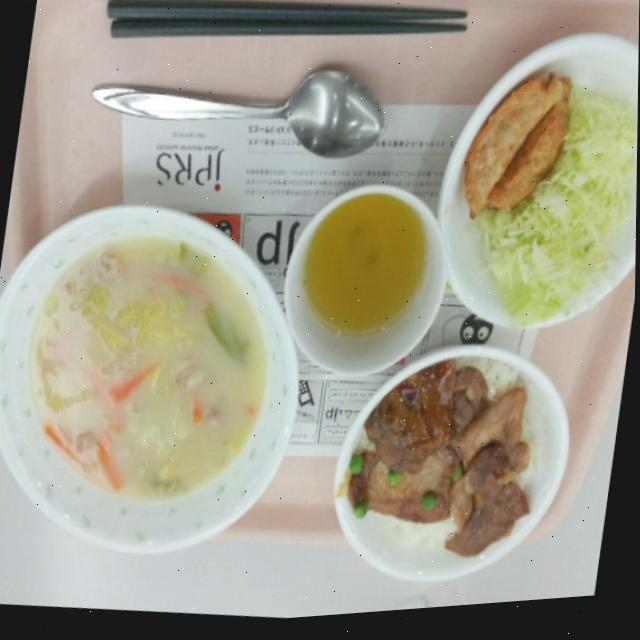汤锅炖物: (0, 198, 336, 590)
蔬菜料理: (460, 104, 638, 353)
